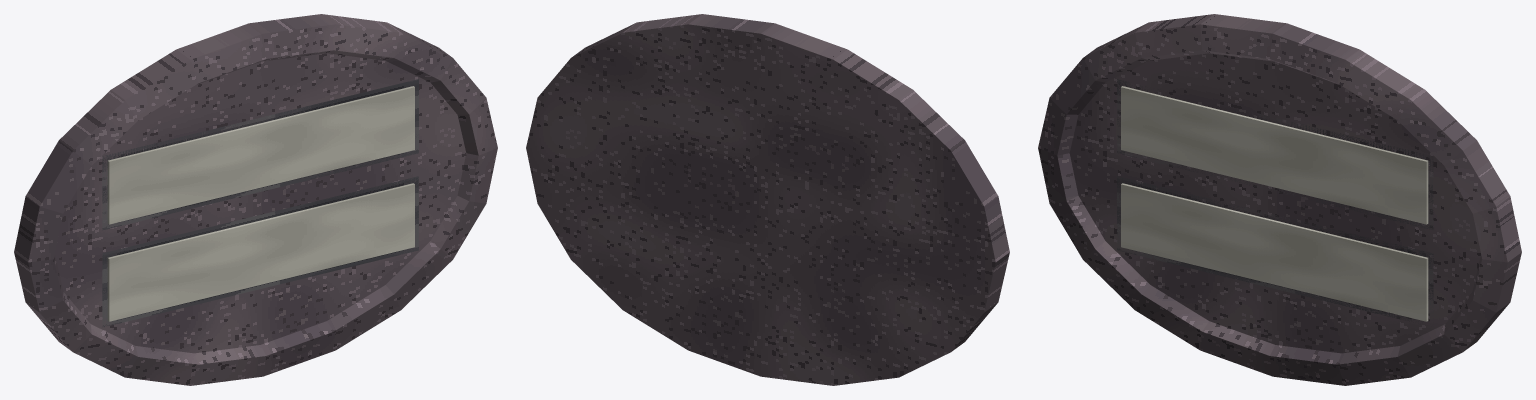
The model's file is plaque_login.glb.
3 renders of one model, left to right at view 1: azimuth 30°, elevation 25°; view 2: azimuth 150°, elevation 25°; view 3: azimuth 330°, elevation 25°, orthographic.
Visible parts, largest first — view 1: LoginPlaque, FieldPassword, FieldAccount; view 2: LoginPlaque; view 3: LoginPlaque, FieldPassword, FieldAccount.
Boxes of the visible parts, x1,y1,x2,y2 form: LoginPlaque: [14, 14, 497, 385]; FieldPassword: [102, 176, 418, 327]; FieldAccount: [102, 79, 418, 230]; LoginPlaque: [526, 14, 1009, 385]; LoginPlaque: [1038, 14, 1521, 385]; FieldPassword: [1117, 176, 1433, 324]; FieldAccount: [1117, 79, 1433, 229].
Bounding box in the file's own units: 0.86 × 0.6 × 0.055.
Materials: 3 (3 with a texture image).
